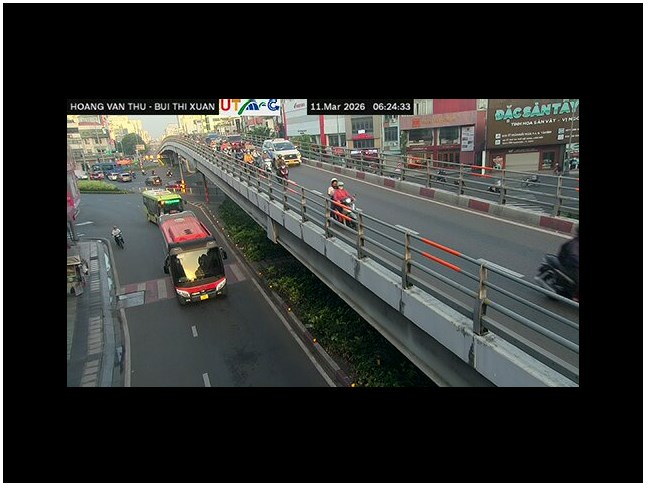bus: (262, 139, 302, 171)
car: (141, 188, 185, 224)
